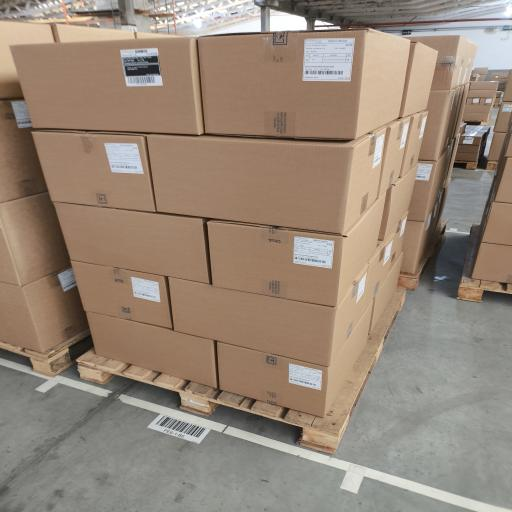pallet: (78, 287, 405, 453), (0, 329, 92, 377), (457, 224, 511, 302), (399, 219, 448, 290), (463, 116, 491, 125), (455, 160, 478, 169), (486, 161, 497, 170)
